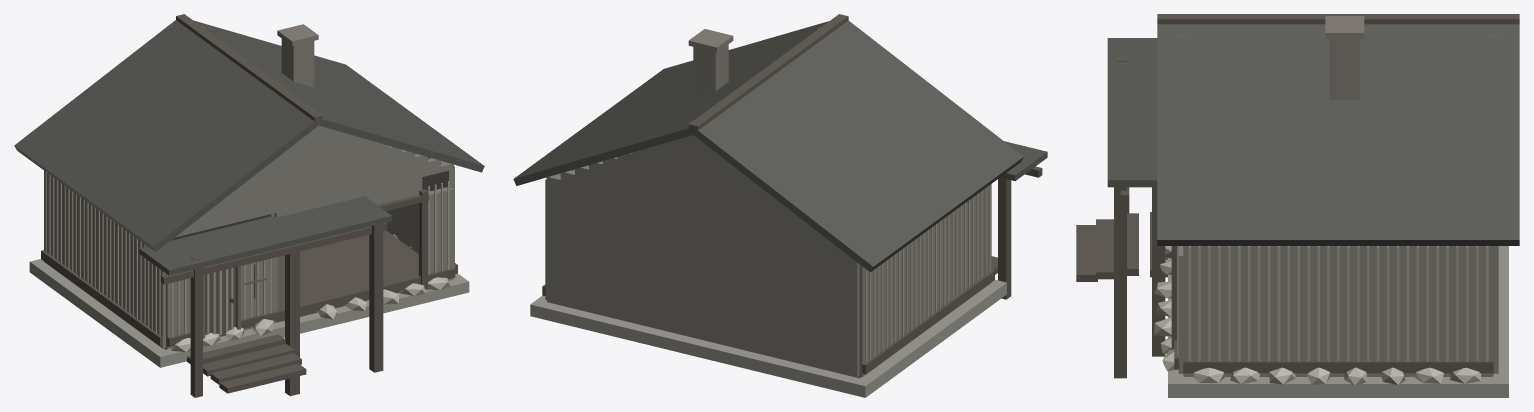
The model's file is CASA-MADERA-PORTON.glb.
3 views of the same model, side by side, from view 1: azimuth 30°, elevation 25°; view 2: azimuth 150°, elevation 25°; view 3: azimuth 270°, elevation 25° (orthographic). The views are drawn at different scales.
Visible parts, largest first — view 1: Techo principal izquierdo, Techo principal derecho, Techo de la galeria, Pared lateral izquierda cerrada, Base inferior de la casa, Piso interior, Frente - pared izquierda, Poste de la galeria.003, Caballete del techo, Zocalo frontal, Pared lateral derecha cerrada, Frente - pared derecha (+27 smaller); view 2: Techo principal izquierdo, Pared trasera cerrada, Techo principal derecho, Base inferior de la casa, Pared lateral izquierda cerrada, Caballete del techo, Zocalo lateral izquierdo, Poste de la galeria, Chimenea, Tabla frontón atras_11, Tabla frontón atras_12, Tabla frontón atras_10 (+13 smaller); view 3: Techo principal derecho, Pared lateral derecha cerrada, Base inferior de la casa, Techo de la galeria, Caballete del techo, Zocalo lateral derecho, Poste de la galeria.003, Chimenea, Marco izquierdo del porton, Escalon 4, Escalon 3, Sombrero de chimenea (+8 smaller).
Part boxes in pixels (bbox=[...]): Techo principal izquierdo: bbox=[14, 20, 318, 251]; Techo principal derecho: bbox=[193, 20, 484, 172]; Techo de la galeria: bbox=[139, 196, 392, 275]; Pared lateral izquierda cerrada: bbox=[44, 170, 165, 348]; Base inferior de la casa: bbox=[29, 259, 469, 367]; Piso interior: bbox=[164, 230, 418, 349]; Frente - pared izquierda: bbox=[166, 257, 276, 348]; Poste de la galeria.003: bbox=[369, 223, 383, 372]; Caballete del techo: bbox=[176, 14, 322, 124]; Zocalo frontal: bbox=[167, 268, 455, 346]; Pared lateral derecha cerrada: bbox=[386, 153, 454, 268]; Frente - pared derecha: bbox=[418, 187, 453, 280]; Techo principal izquierdo: bbox=[693, 20, 1023, 272]; Pared trasera cerrada: bbox=[547, 183, 859, 377]; Techo principal derecho: bbox=[513, 21, 828, 185]; Base inferior de la casa: bbox=[530, 280, 1006, 397]; Pared lateral izquierda cerrada: bbox=[859, 184, 991, 377]; Caballete del techo: bbox=[688, 14, 848, 134]; Zocalo lateral izquierdo: bbox=[862, 270, 994, 374]; Poste de la galeria: bbox=[998, 146, 1011, 299]; Chimenea: bbox=[693, 44, 728, 97]; Tabla frontón atras_11: bbox=[687, 121, 702, 220]; Tabla frontón atras_12: bbox=[673, 136, 687, 216]; Tabla frontón atras_10: bbox=[702, 128, 720, 223]; Techo principal derecho: bbox=[1157, 24, 1519, 245]; Pared lateral derecha cerrada: bbox=[1183, 246, 1493, 375]; Base inferior de la casa: bbox=[1168, 246, 1508, 397]; Techo de la galeria: bbox=[1107, 38, 1157, 187]; Caballete del techo: bbox=[1157, 14, 1519, 24]; Zocalo lateral derecho: bbox=[1183, 360, 1493, 373]; Poste de la galeria.003: bbox=[1114, 187, 1126, 378]; Chimenea: bbox=[1329, 39, 1360, 100]; Marco izquierdo del porton: bbox=[1152, 187, 1165, 356]; Escalon 4: bbox=[1076, 225, 1097, 281]; Escalon 3: bbox=[1096, 219, 1113, 279]; Sombrero de chimenea: bbox=[1325, 16, 1364, 38].
Bounding box in the file's own units: 11.7 × 9.67 × 10.28.
